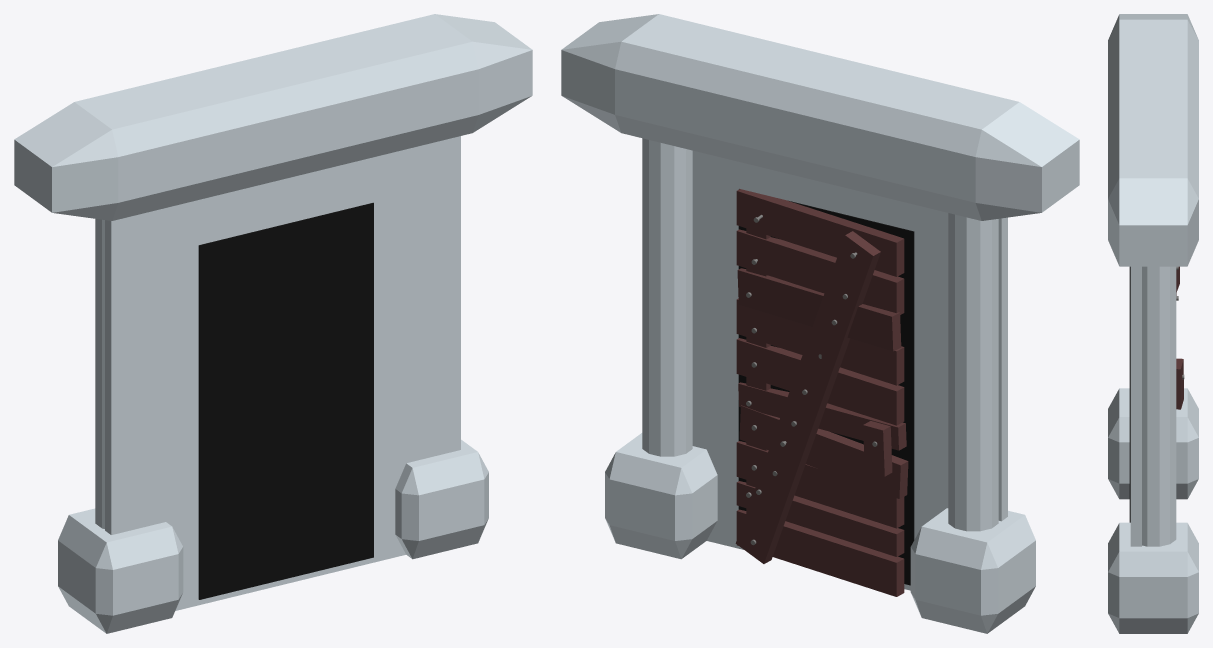
File: woodenDoor.gltf
The picture shows the model from 3 angles, left to right: view 1: azimuth 30°, elevation 25°; view 2: azimuth 150°, elevation 25°; view 3: azimuth 270°, elevation 25°; orthographic projection. The views are drawn at different scales.
Parts seen in each view (by area): view 1: cuboid (×2), beveled_cuboid (×3), cylinder (×2); view 2: cuboid (×14), beveled_cuboid (×3), cylinder (×2); view 3: beveled_cuboid (×3), cylinder, cuboid (×3).
Boxes of the visible parts, bbox=[...] form: cuboid (×2): bbox=[105, 136, 460, 610]; beveled_cuboid (×3): bbox=[14, 14, 532, 633]; cylinder (×2): bbox=[95, 149, 444, 529]; cuboid (×14): bbox=[692, 150, 1007, 596]; beveled_cuboid (×3): bbox=[561, 14, 1079, 633]; cylinder (×2): bbox=[642, 138, 998, 531]; beveled_cuboid (×3): bbox=[1108, 14, 1198, 633]; cylinder: bbox=[1142, 266, 1176, 546]; cuboid (×3): bbox=[1129, 266, 1183, 546].
Bounding box in the file's own units: 1.38 × 1.38 × 0.25.
Materials: 4 (4 with a texture image).
